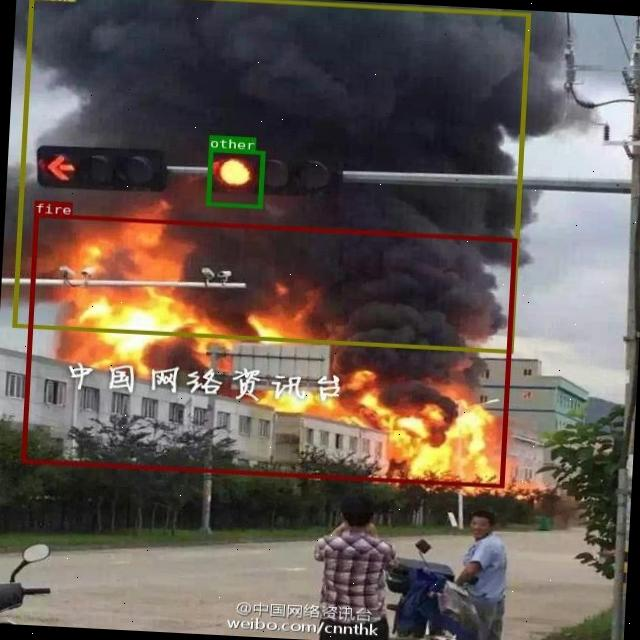fire: (21, 213, 516, 488)
smoke: (12, 0, 530, 353)
